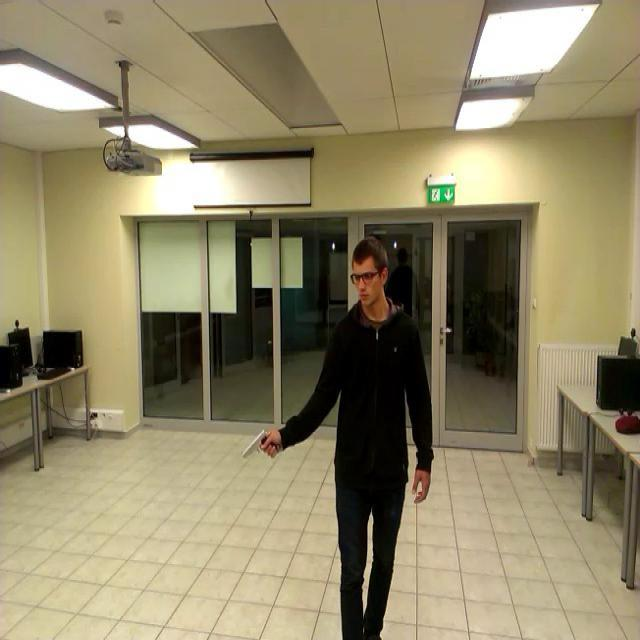weapon: (241, 430, 281, 459)
